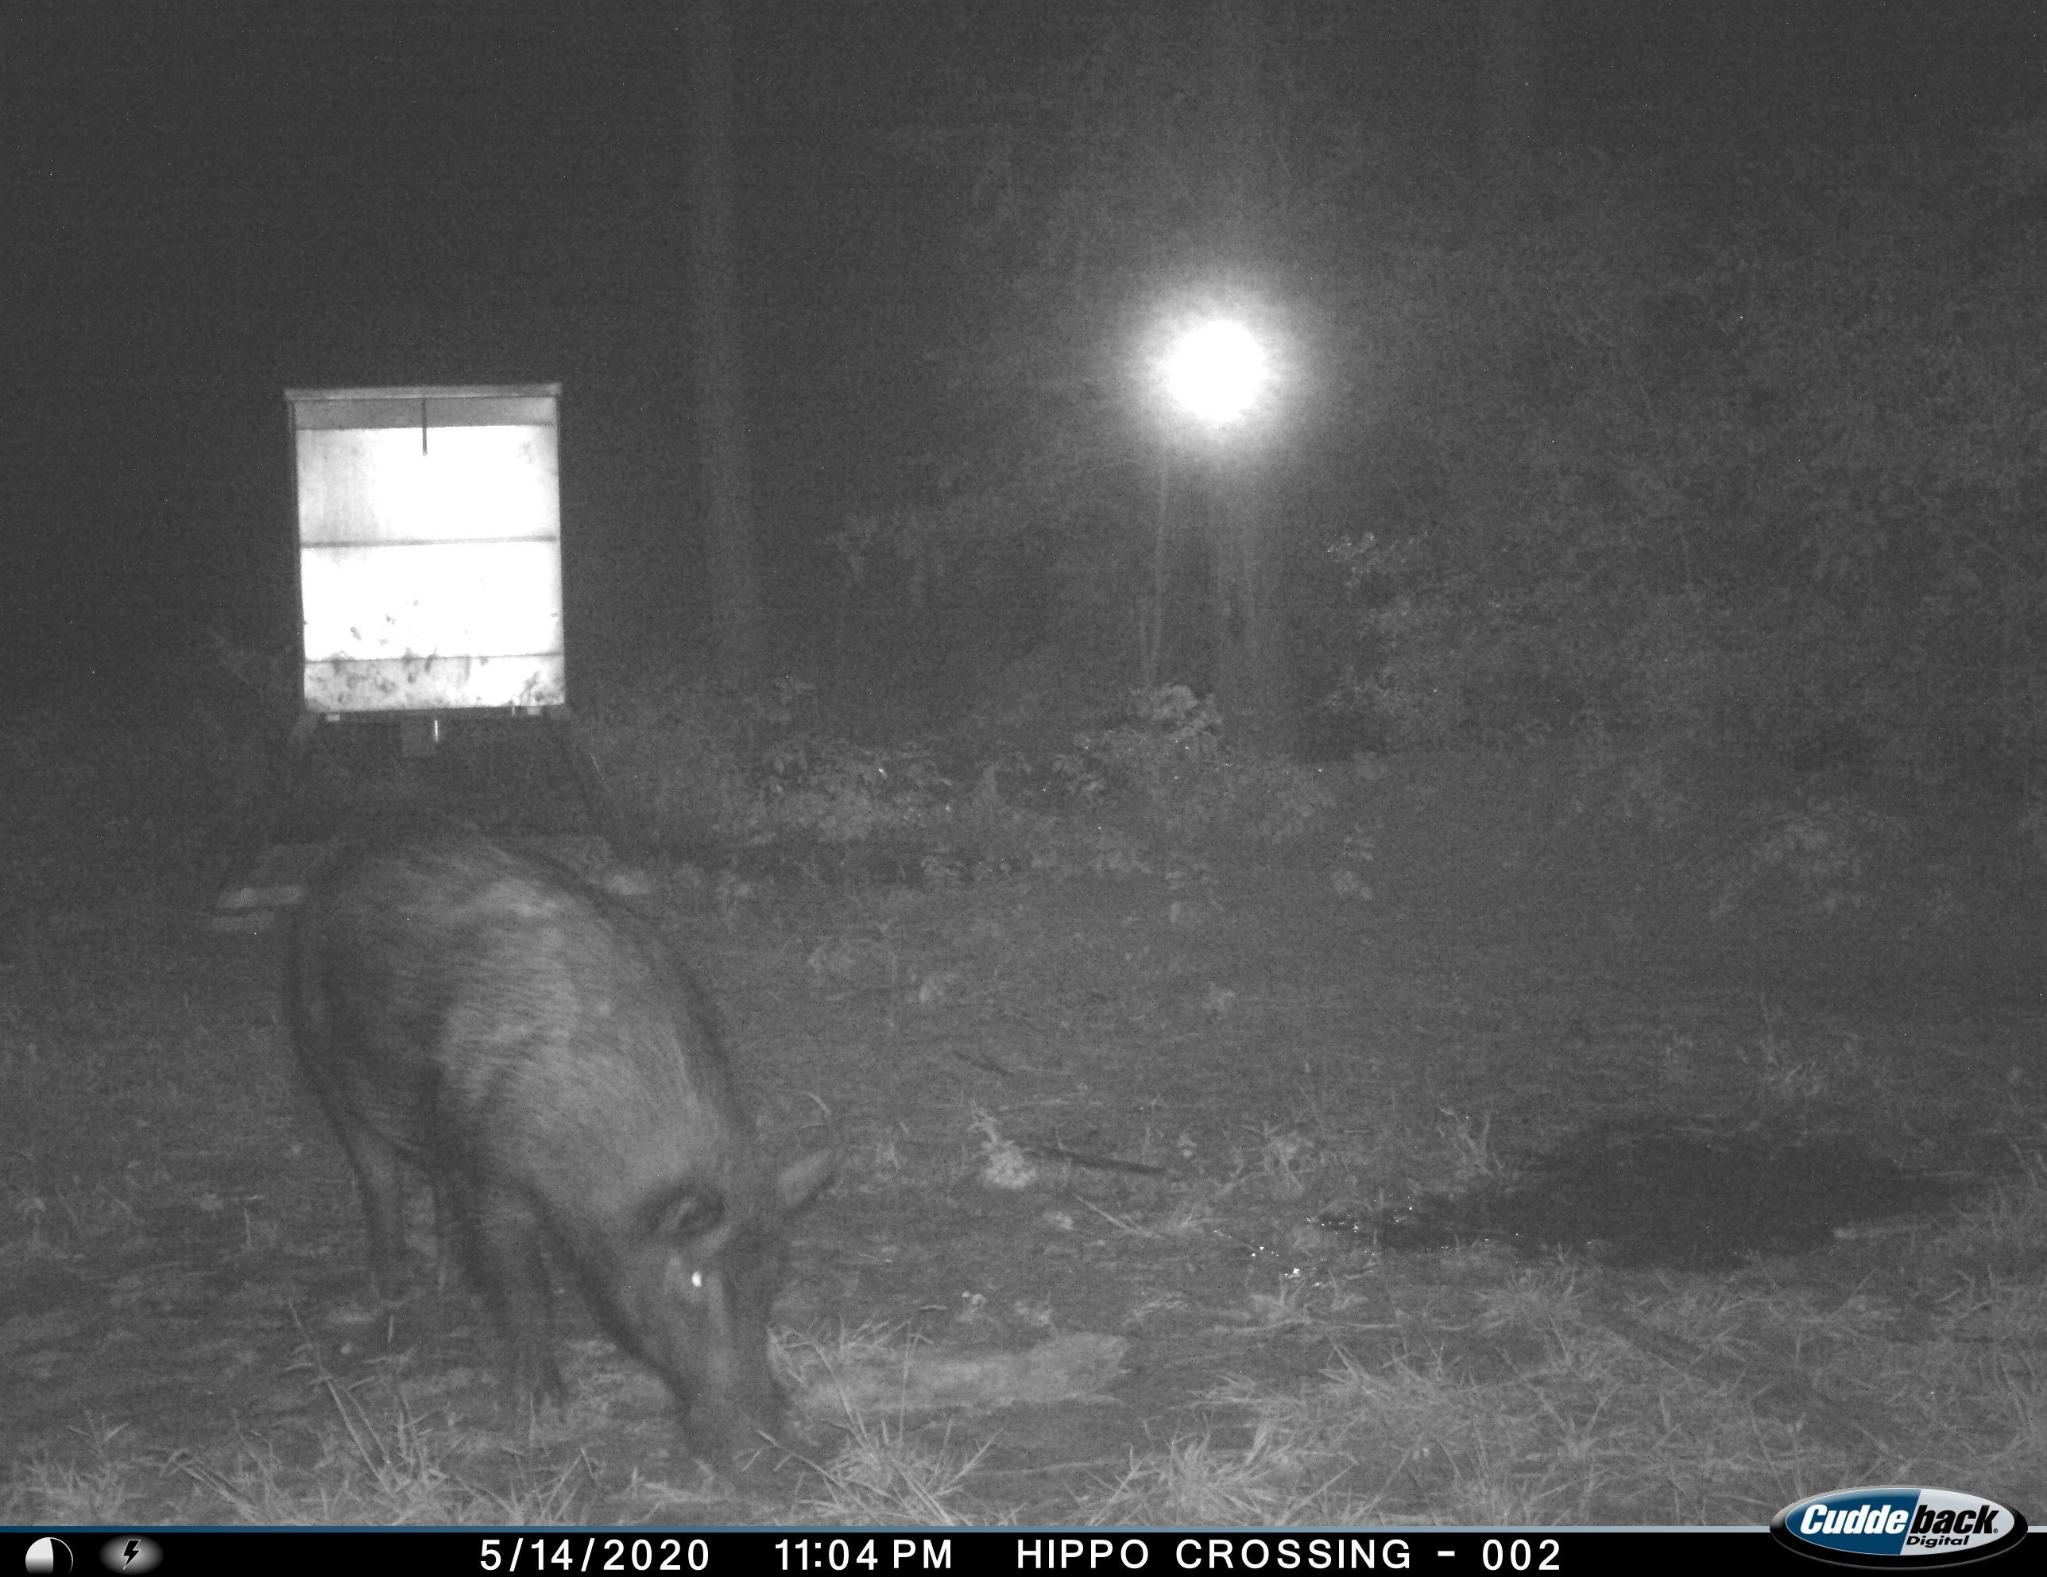Hog: (282, 798, 855, 1463)
